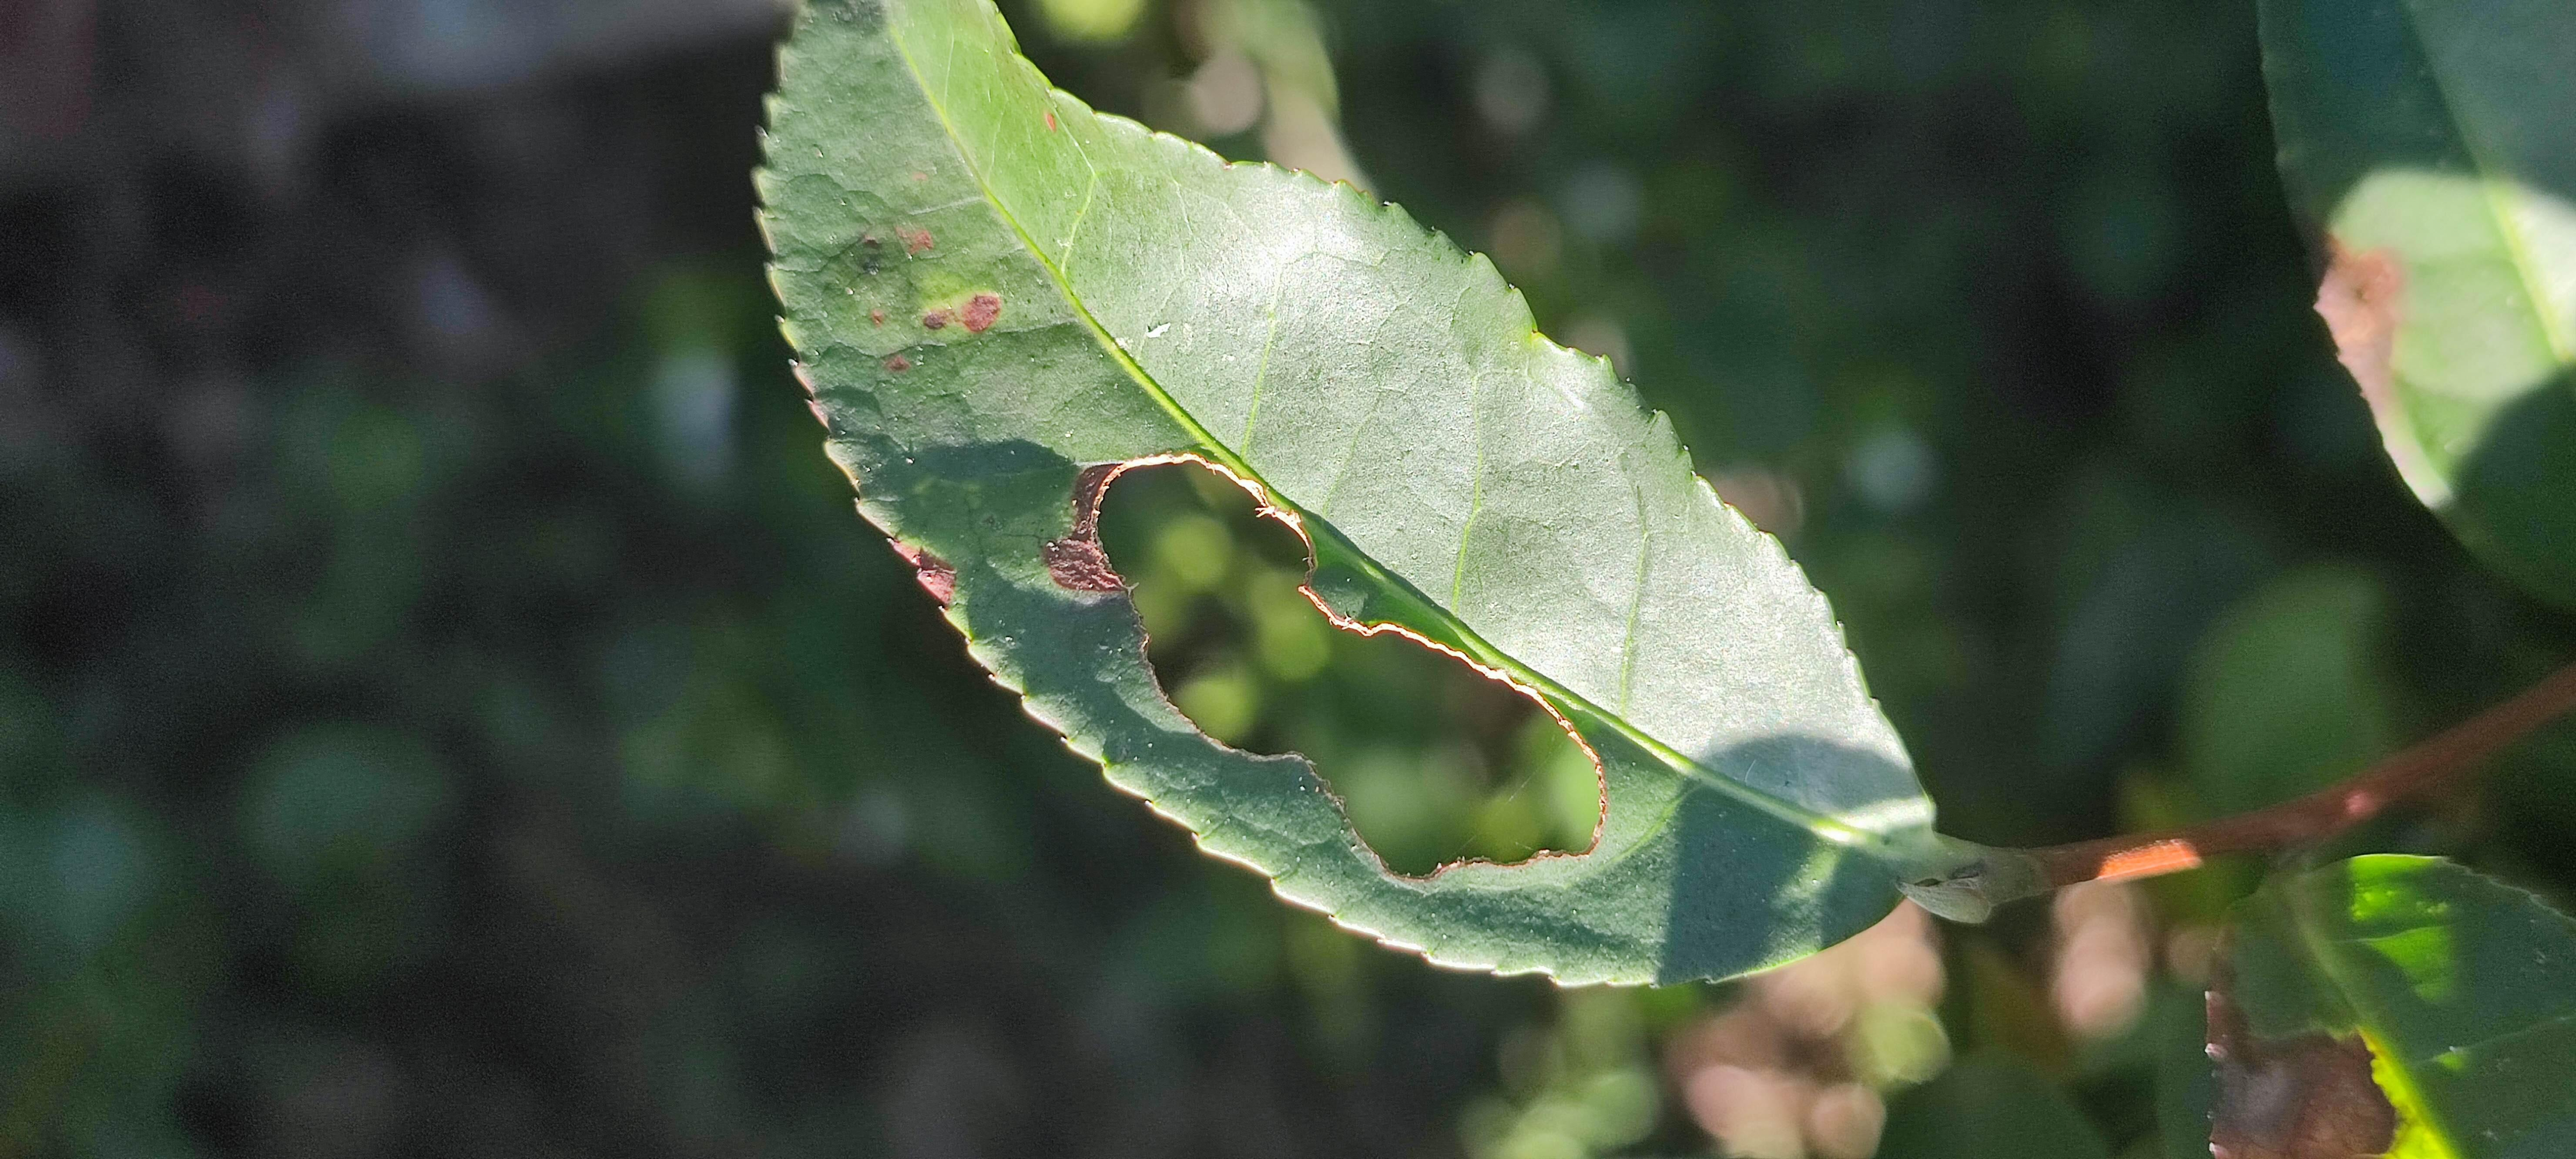chihuo_high: (747, 5, 1952, 995)
